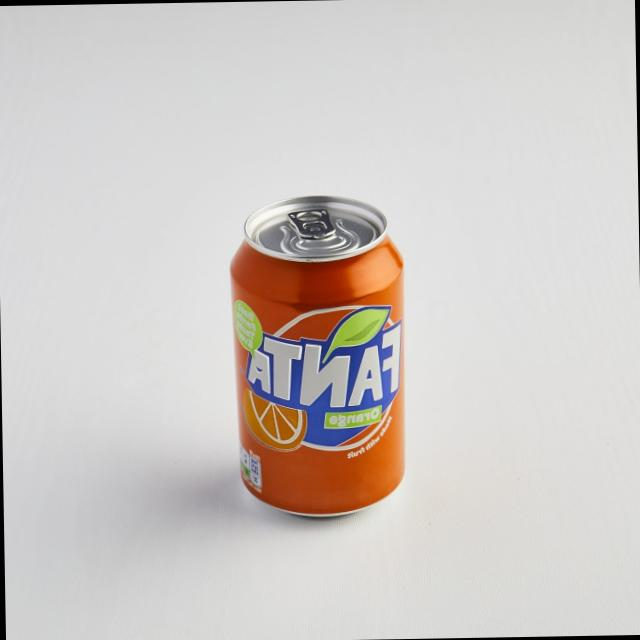fanta: (230, 195, 410, 522)
